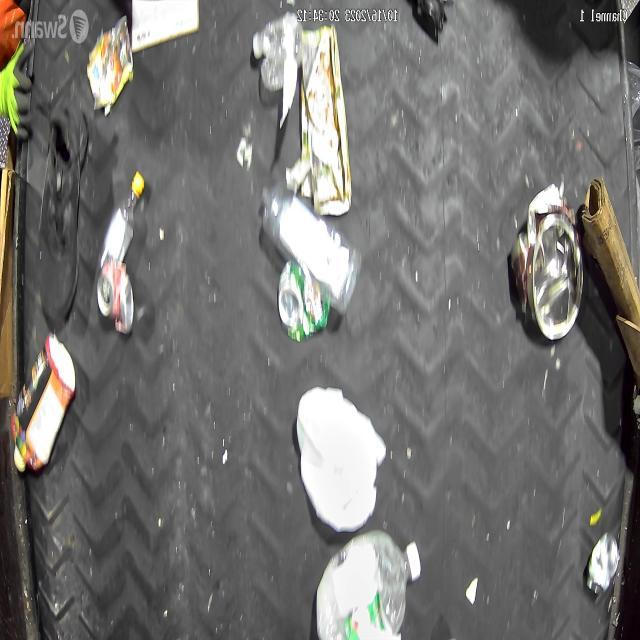can: (518, 174, 584, 342), (277, 262, 328, 344), (96, 258, 134, 347), (582, 516, 623, 598)
milk_jug: (296, 381, 384, 538)
plastic_bottle: (314, 530, 424, 640)
